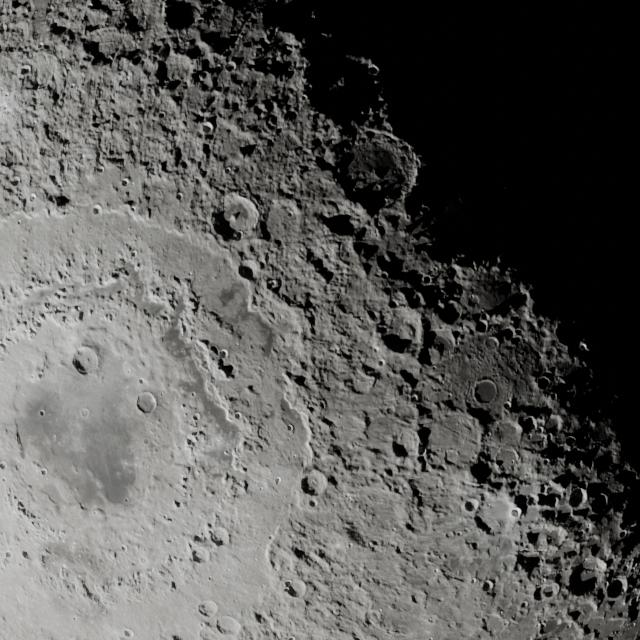crater: (276, 393, 310, 466), (262, 199, 308, 245), (213, 277, 256, 322), (384, 309, 424, 351), (374, 206, 412, 242), (572, 557, 607, 595), (308, 247, 342, 282), (490, 419, 522, 452), (206, 342, 234, 378), (203, 522, 235, 553), (342, 522, 376, 550), (390, 612, 431, 635), (526, 525, 560, 552), (489, 552, 520, 581), (393, 427, 420, 457), (430, 327, 458, 354), (14, 188, 43, 214), (73, 346, 99, 373), (302, 470, 328, 496), (473, 378, 499, 403), (495, 448, 521, 471), (13, 388, 34, 414), (484, 613, 510, 634), (136, 391, 158, 413), (217, 616, 241, 635), (285, 579, 307, 599), (607, 577, 627, 599), (198, 599, 219, 617), (365, 610, 386, 628), (16, 500, 34, 519), (545, 414, 563, 433), (521, 415, 539, 433), (462, 498, 479, 514), (192, 548, 210, 563), (417, 452, 430, 472), (500, 326, 516, 342), (292, 546, 307, 560), (485, 336, 499, 350), (264, 619, 278, 633), (537, 376, 552, 389), (49, 174, 62, 189), (476, 318, 489, 332), (280, 398, 293, 412), (568, 608, 582, 621), (266, 114, 278, 127), (564, 436, 576, 448), (186, 435, 197, 447), (91, 204, 102, 216), (422, 275, 434, 286), (519, 601, 529, 613), (198, 70, 208, 82), (80, 408, 90, 419), (308, 498, 318, 508), (17, 501, 26, 512), (511, 508, 520, 518), (319, 400, 328, 410), (121, 178, 130, 187), (22, 550, 30, 560), (220, 349, 228, 359), (158, 110, 166, 120), (172, 299, 180, 309), (120, 544, 128, 553), (193, 413, 201, 422), (96, 165, 105, 173), (182, 476, 190, 484), (129, 204, 137, 212), (29, 193, 37, 201), (286, 424, 294, 432), (0, 462, 7, 471), (38, 368, 44, 378), (143, 438, 150, 446), (40, 468, 47, 476), (235, 412, 242, 420), (223, 449, 230, 457), (131, 250, 138, 257), (51, 434, 57, 442), (5, 551, 11, 558), (138, 378, 145, 384)
rock: (80, 580, 96, 600), (238, 263, 255, 281), (410, 290, 426, 308), (229, 208, 244, 226), (200, 122, 213, 134), (542, 585, 555, 597), (20, 64, 32, 76), (254, 612, 265, 624), (368, 63, 379, 75), (10, 175, 21, 186), (122, 627, 134, 637), (232, 230, 242, 241), (199, 603, 208, 615), (579, 342, 589, 352), (174, 498, 183, 508), (410, 594, 419, 604), (503, 400, 512, 410), (268, 279, 277, 289), (112, 271, 120, 280), (38, 409, 46, 417), (286, 209, 294, 217), (171, 580, 177, 590), (275, 476, 282, 484), (378, 359, 385, 367), (268, 534, 274, 542), (70, 82, 76, 90), (471, 578, 476, 584)
